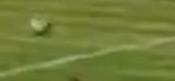ball: (27, 11, 54, 38)
